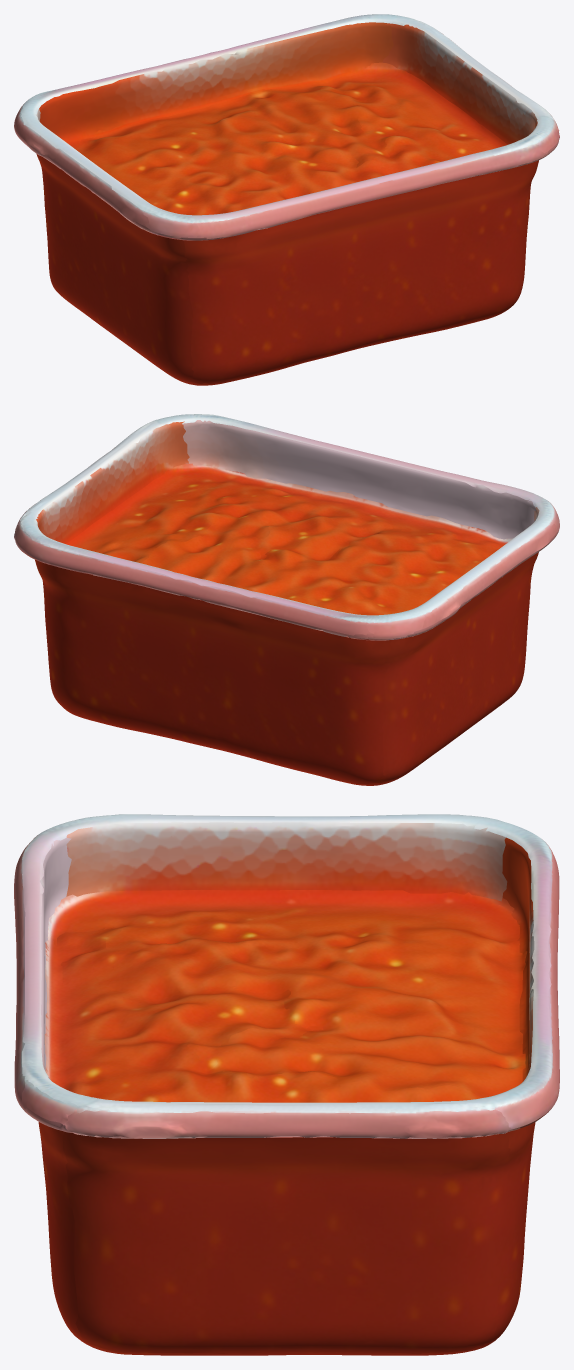
The picture shows the model from 3 angles, top to bottom: view 1: azimuth 30°, elevation 25°; view 2: azimuth 150°, elevation 25°; view 3: azimuth 270°, elevation 25°; orthographic projection. The views are drawn at different scales.
Visible parts, largest first — view 1: tmpvez7kvua.ply; view 2: tmpvez7kvua.ply; view 3: tmpvez7kvua.ply.
Part boxes in pixels (left/top/right/bottom): tmpvez7kvua.ply: left=14, top=14, right=559, bottom=385; tmpvez7kvua.ply: left=14, top=414, right=559, bottom=785; tmpvez7kvua.ply: left=14, top=814, right=559, bottom=1355.
Size of the model in its own units: 197 by 85.82 by 149.
Materials: 1 (1 with a texture image).
